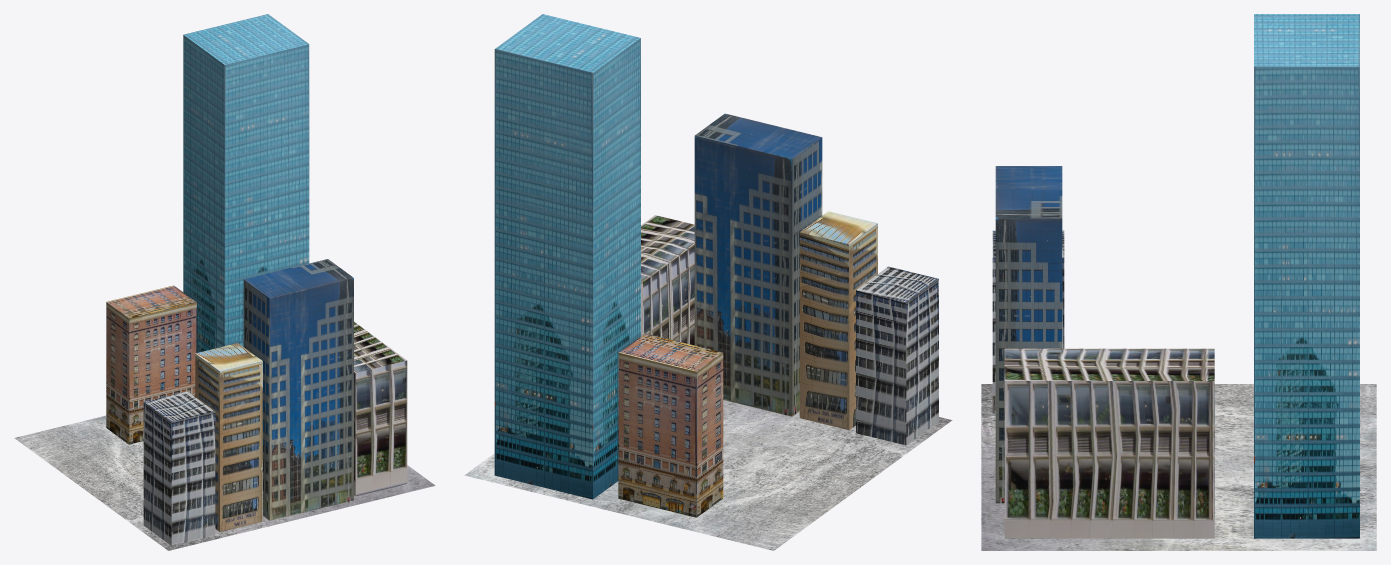
Rendered from buyldings1.fbx.
3 views of the same model, side by side, from view 1: azimuth 30°, elevation 25°; view 2: azimuth 150°, elevation 25°; view 3: azimuth 270°, elevation 25° (orthographic). The views are drawn at different scales.
Parts seen in each view (by area): view 1: Plane.006, Plane.008, Plane.007, Plane.009, Plane.010, Plane.001, Plane.005; view 2: Plane.006, Plane.008, Plane.001, Plane.007, Plane.009, Plane.010, Plane.005; view 3: Plane.006, Plane.005, Plane.001, Plane.008, Plane.009.
Part boxes in pixels (bbox=[...]): Plane.006: bbox=[183, 14, 309, 352]; Plane.008: bbox=[243, 259, 353, 520]; Plane.007: bbox=[106, 285, 196, 444]; Plane.009: bbox=[143, 391, 215, 545]; Plane.010: bbox=[195, 343, 262, 531]; Plane.001: bbox=[14, 415, 435, 550]; Plane.005: bbox=[354, 322, 407, 496]; Plane.006: bbox=[494, 14, 640, 499]; Plane.008: bbox=[694, 113, 822, 416]; Plane.001: bbox=[464, 400, 952, 550]; Plane.007: bbox=[618, 333, 723, 517]; Plane.009: bbox=[856, 266, 938, 445]; Plane.010: bbox=[799, 211, 877, 429]; Plane.005: bbox=[641, 215, 694, 345]; Plane.006: bbox=[1254, 14, 1359, 538]; Plane.005: bbox=[1004, 348, 1214, 538]; Plane.001: bbox=[981, 384, 1376, 550]; Plane.008: bbox=[995, 166, 1062, 503]; Plane.009: bbox=[992, 230, 1064, 415].
Size of the model in its own units: 11012 by 14501 by 11012.
Materials: 6 (6 with a texture image).
